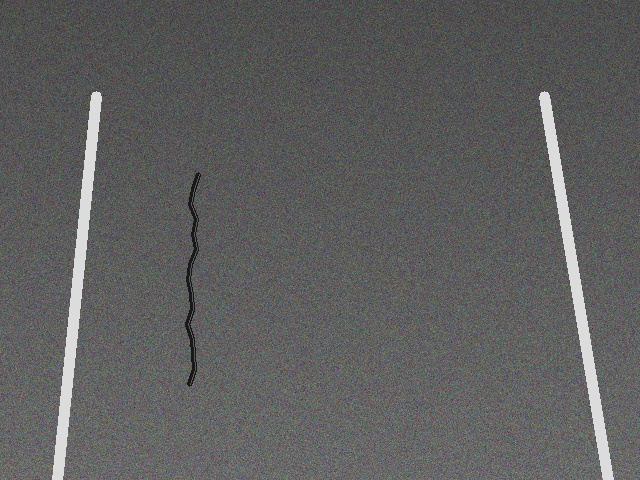D00: (172, 174, 213, 393)
